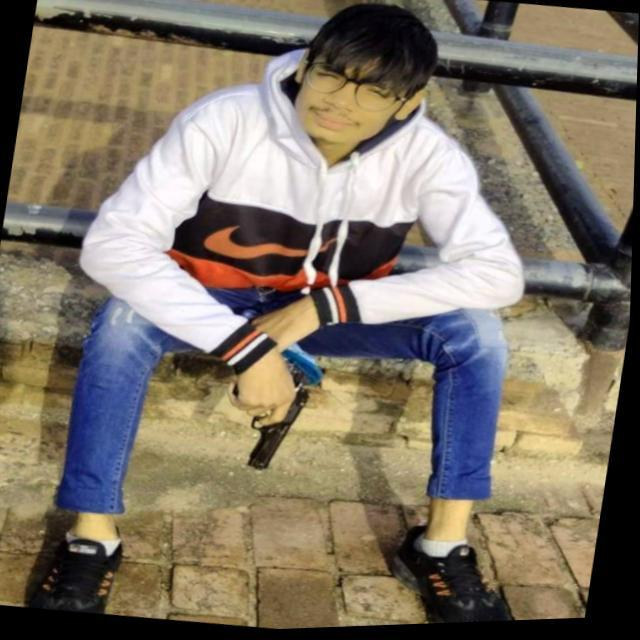weapon: (218, 370, 320, 481)
